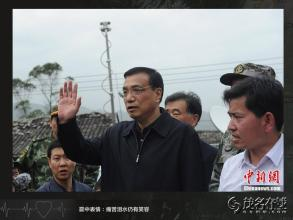no_mask: (221, 80, 284, 152), (119, 67, 164, 123), (46, 139, 77, 183)
